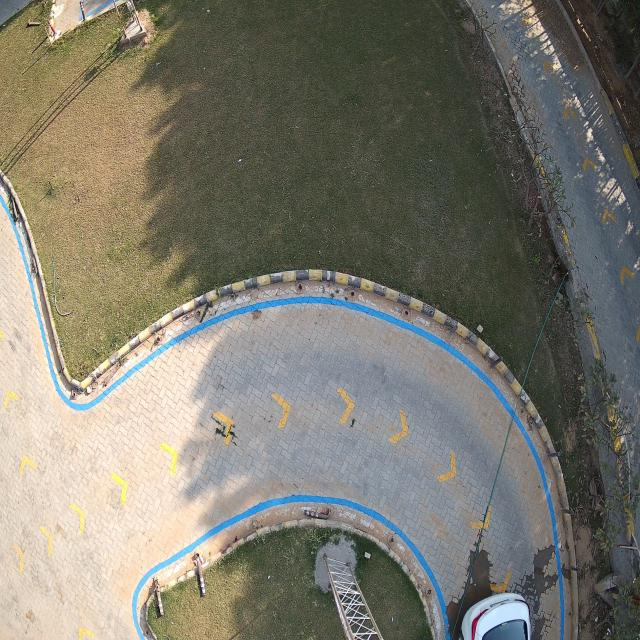car: (461, 593, 531, 640)
